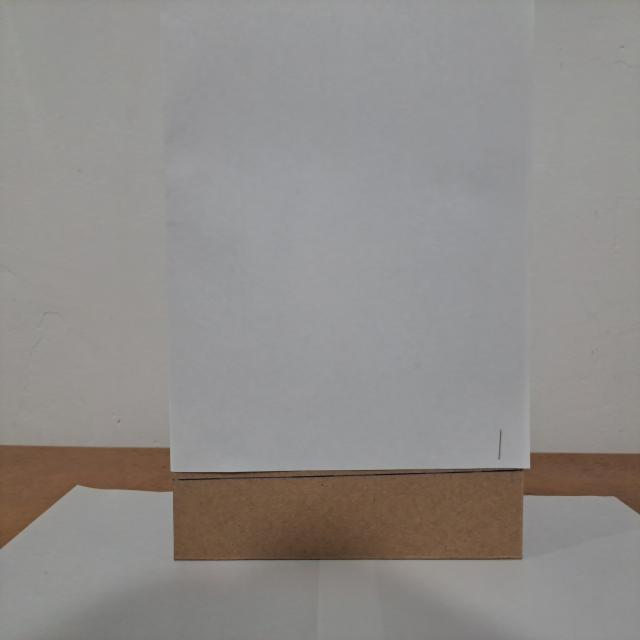wall: (172, 5, 524, 569)
